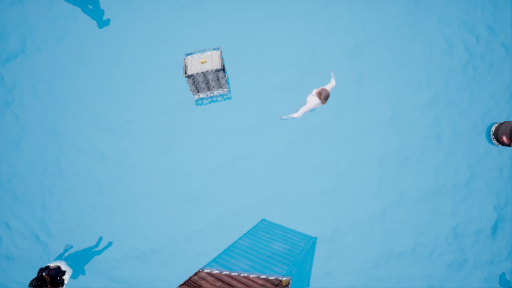person: (294, 74, 346, 121)
